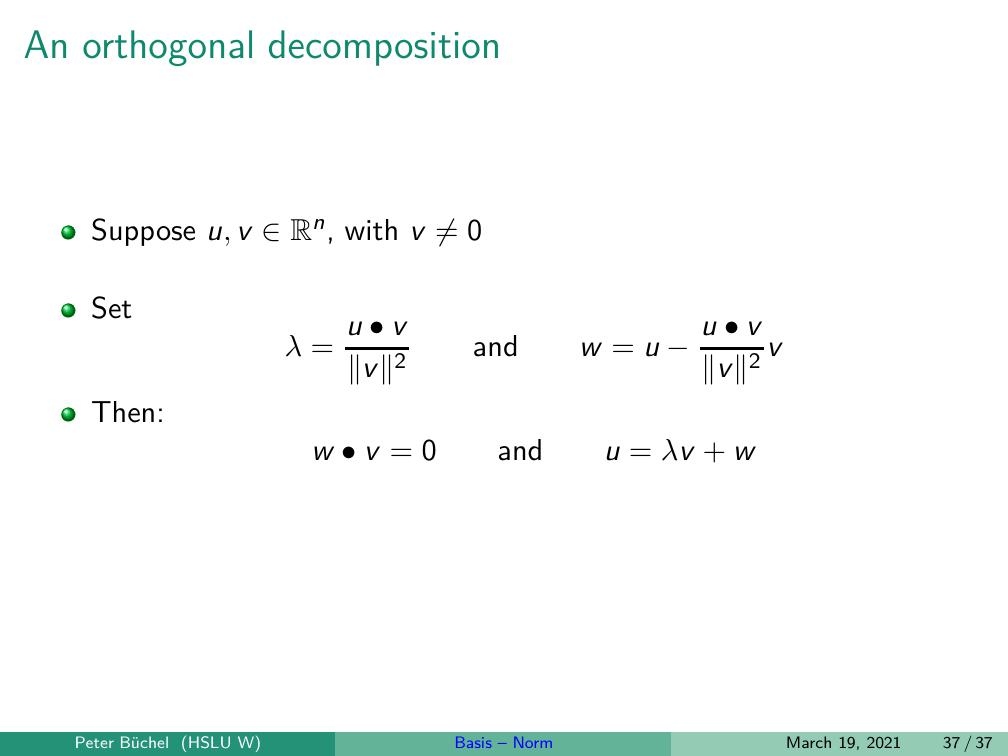Title: (21, 18, 511, 69)
